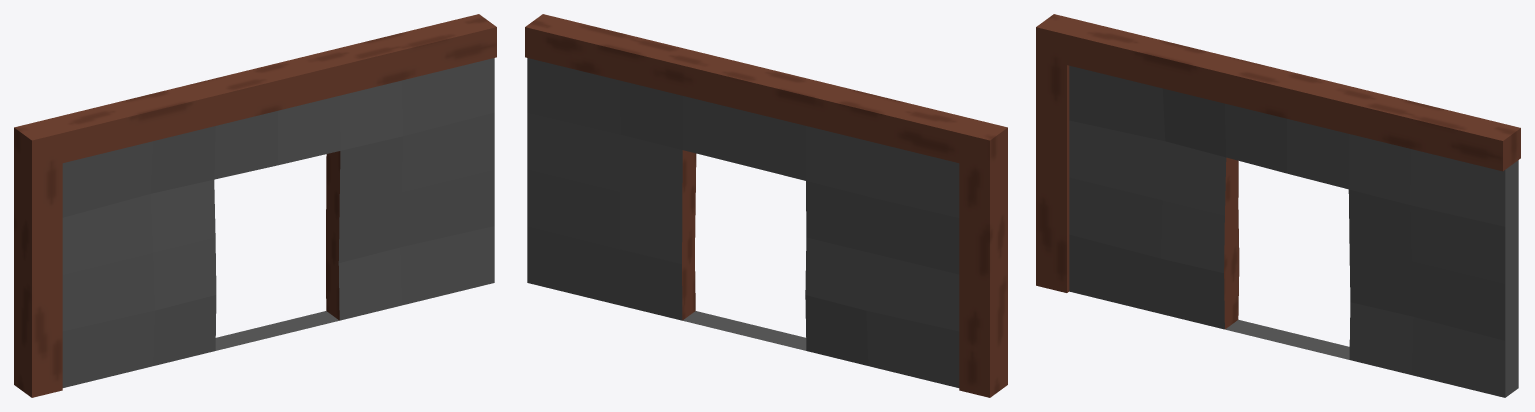
File: StoneWallD.fbx
3 views of the same model, side by side, from view 1: azimuth 30°, elevation 25°; view 2: azimuth 150°, elevation 25°; view 3: azimuth 330°, elevation 25° (orthographic).
Visible parts, largest first — view 1: Cube; view 2: Cube; view 3: Cube.
Boxes of the visible parts, x1=… form: Cube: x1=14, y1=14, x2=496, y2=397; Cube: x1=525, y1=14, x2=1007, y2=397; Cube: x1=1036, y1=14, x2=1520, y2=397.
Bounding box in the file's own units: 1499 × 793 × 100.
